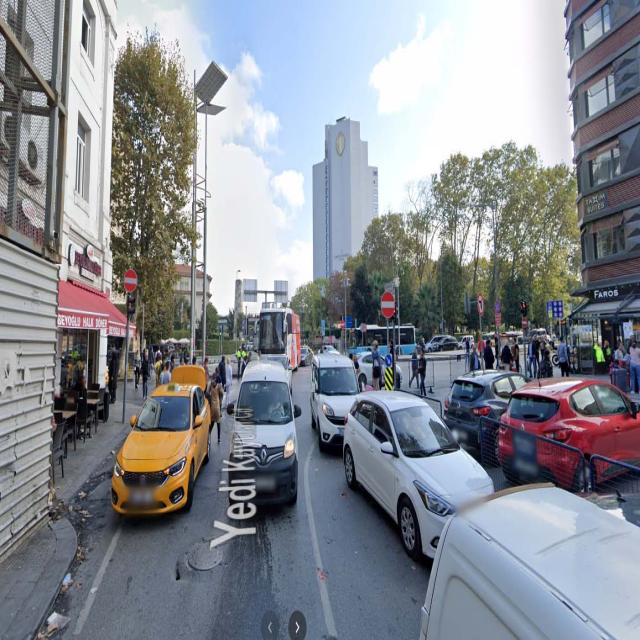girisyok: (380, 291, 394, 318), (124, 268, 137, 294)
soladonulmez: (477, 293, 484, 316)
